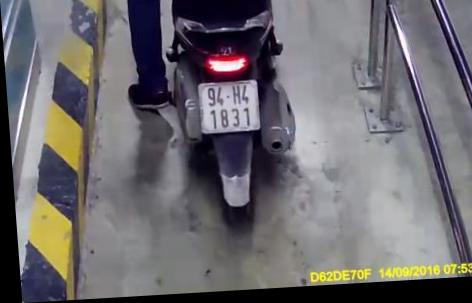License_Plate: (189, 75, 266, 141)
